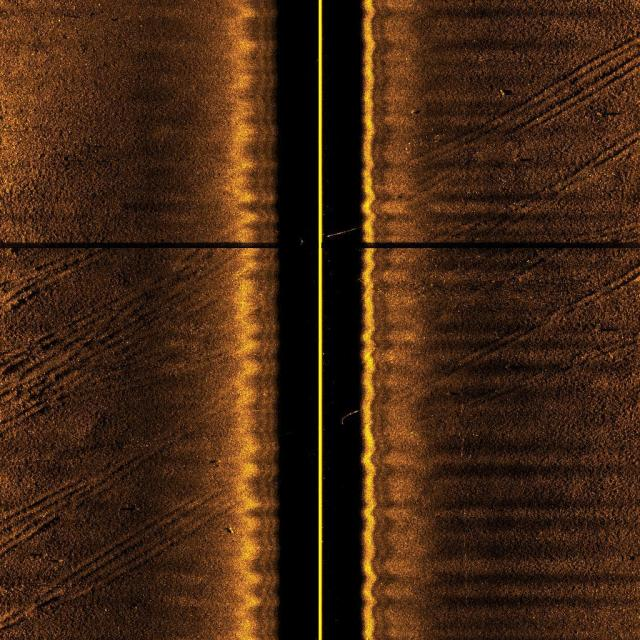mine: (498, 86, 514, 98)
